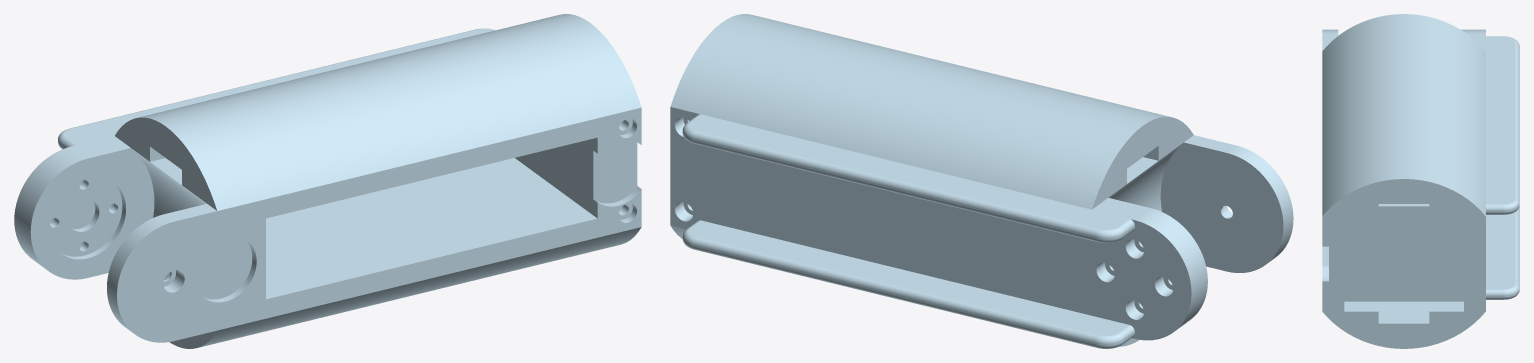
The model's file is _MVGPnbxdoVRLzajDB.gltf.
3 views of the same model, side by side, from view 1: azimuth 30°, elevation 25°; view 2: azimuth 150°, elevation 25°; view 3: azimuth 270°, elevation 25° (orthographic). The views are drawn at different scales.
Parts seen in each view (by area): view 1: SnakeBody; view 2: SnakeBody; view 3: SnakeBody.
Boxes of the visible parts, bbox=[...] form: SnakeBody: bbox=[14, 14, 641, 348]; SnakeBody: bbox=[670, 14, 1293, 348]; SnakeBody: bbox=[1322, 14, 1519, 348].
Bounding box in the file's own units: 0.1425 × 0.0554 × 0.0583.
